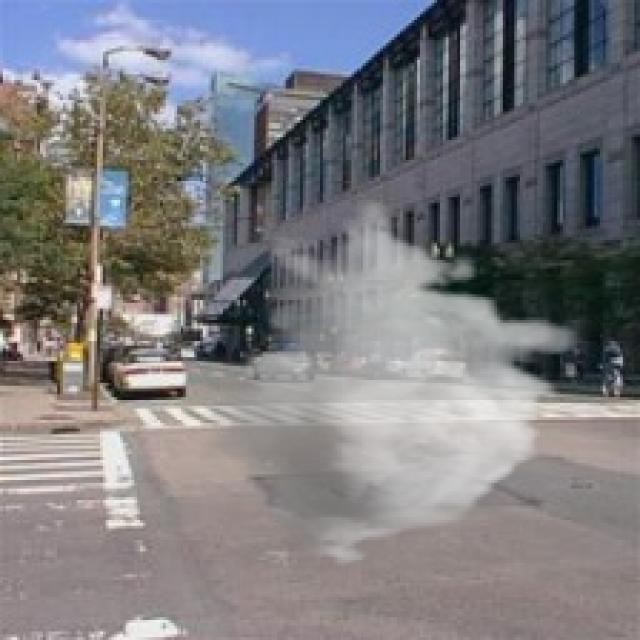Smoke: (200, 197, 586, 569)
